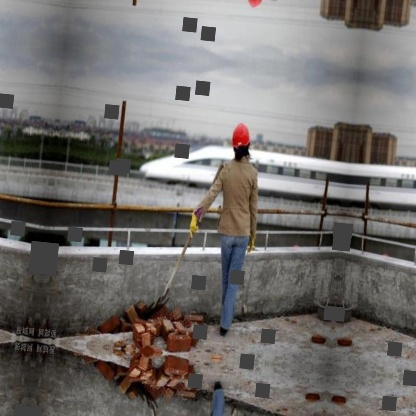red: (230, 119, 254, 150)
